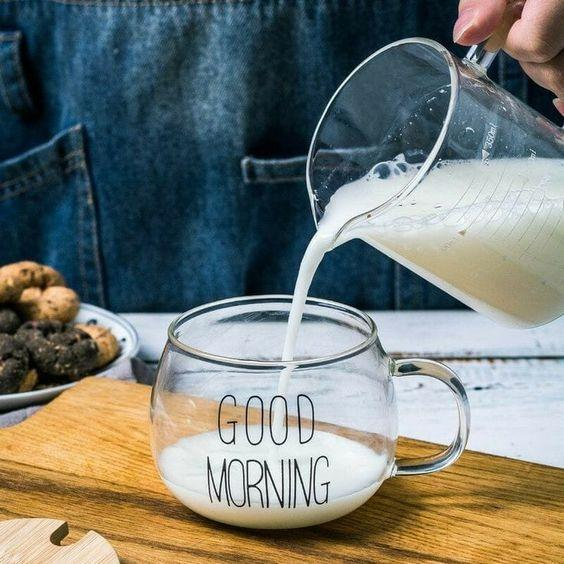glass-mug: (146, 290, 476, 536)
